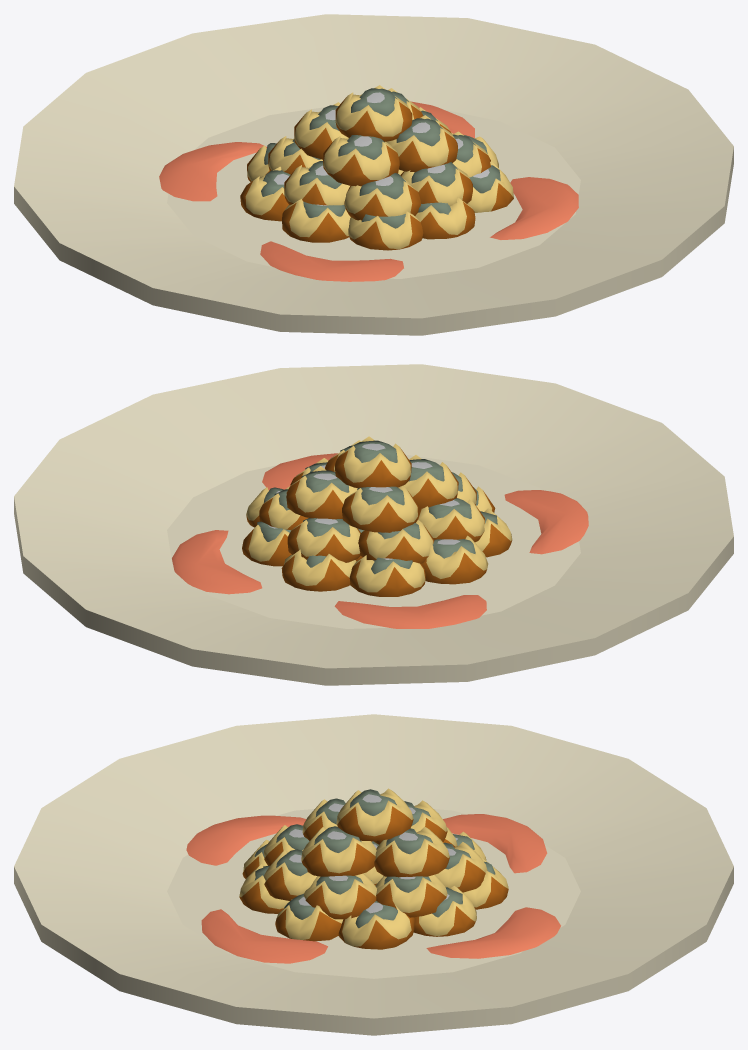
Rendered from SainteMaureDressed.fbx.
3 views of the same model, one above another, from view 1: azimuth 30°, elevation 25°; view 2: azimuth 150°, elevation 25°; view 3: azimuth 270°, elevation 25° (orthographic).
Parts seen in each view (by area): view 1: Sainte_Maure_Dressed; view 2: Sainte_Maure_Dressed; view 3: Sainte_Maure_Dressed.
Part boxes in pixels (bbox=[...]): Sainte_Maure_Dressed: bbox=[14, 14, 733, 335]; Sainte_Maure_Dressed: bbox=[14, 364, 733, 685]; Sainte_Maure_Dressed: bbox=[14, 714, 733, 1035].
Size of the model in its own units: 0.6488 by 0.6488 by 0.1334.
